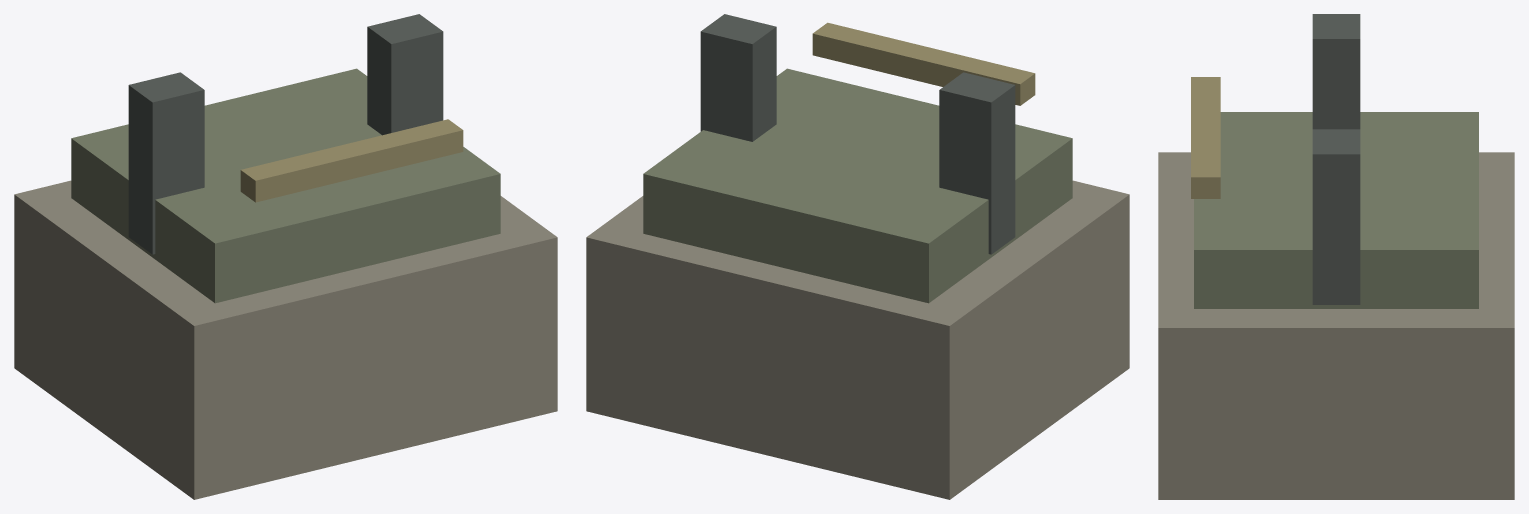
File: supply.glb
The picture shows the model from 3 angles, left to right: view 1: azimuth 30°, elevation 25°; view 2: azimuth 150°, elevation 25°; view 3: azimuth 270°, elevation 25°; orthographic projection.
Visible parts, largest first — view 1: p0, p1, p2, p3, p4; view 2: p0, p1, p2, p3, p4; view 3: p0, p1, p3, p2, p4.
Boxes of the visible parts, x1,y1,x2,y2 form: p0: (14,180,557,499); p1: (71,68,500,303); p2: (128,72,204,254); p3: (367,14,443,135); p4: (240,119,463,202); p0: (586,180,1129,499); p1: (643,68,1072,303); p2: (939,72,1015,254); p3: (700,14,776,141); p4: (812,22,1035,105); p0: (1158,152,1514,499); p1: (1194,112,1478,308); p3: (1312,129,1360,304); p2: (1312,14,1360,129); p4: (1191,77,1220,198).
Size of the model in its own units: 7 by 6.1 by 6.
